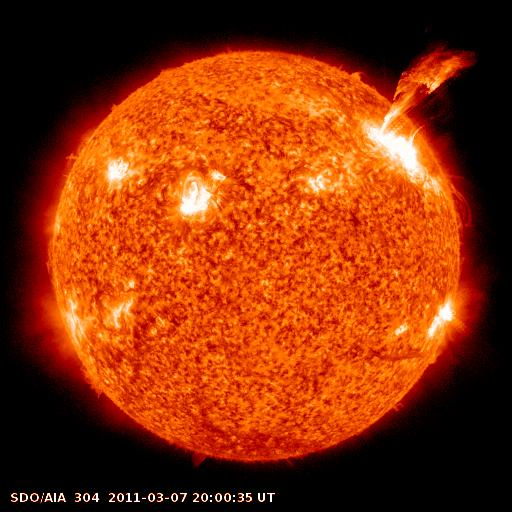prominence: (370, 32, 487, 138), (433, 161, 492, 234), (63, 356, 122, 412), (54, 121, 103, 184), (177, 438, 224, 476), (38, 227, 65, 286), (381, 391, 415, 425), (340, 58, 372, 90), (417, 344, 449, 373)
